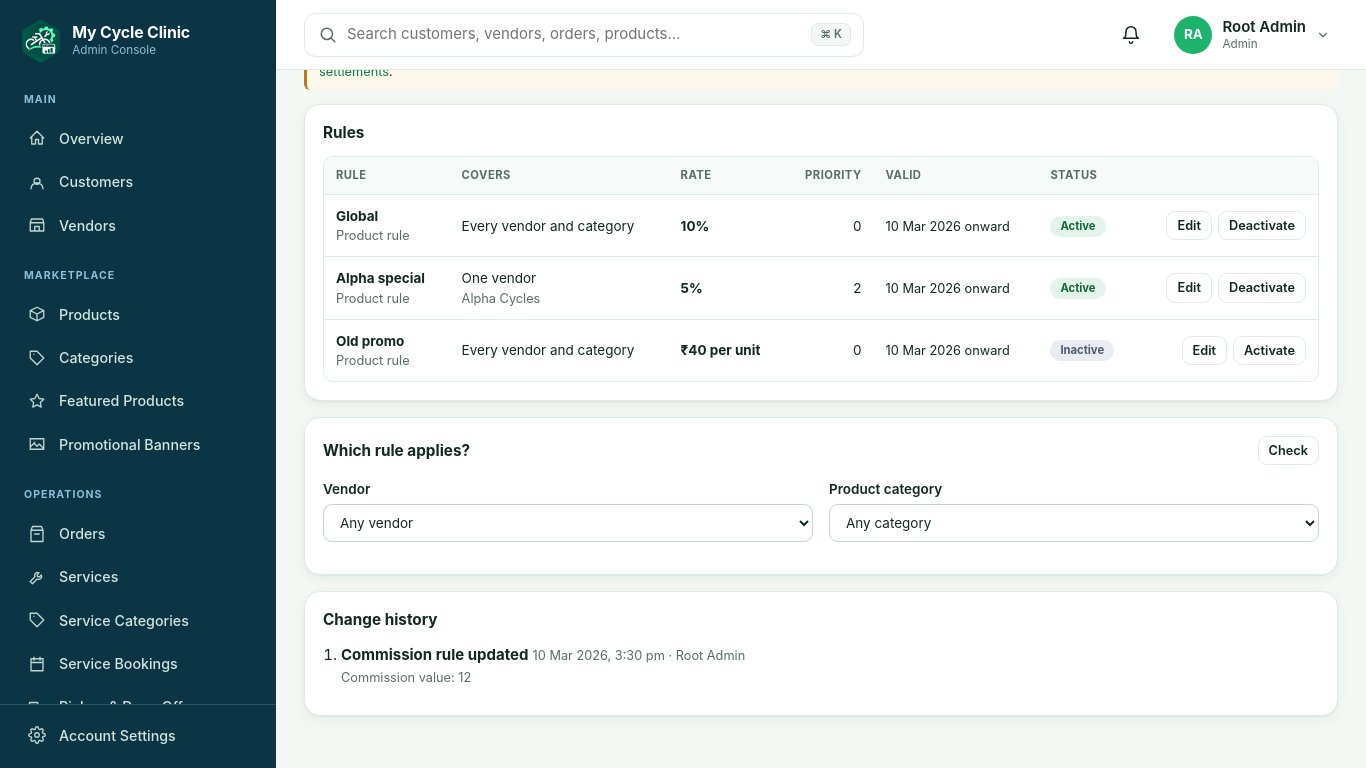
Test: commission management › tells the admin which rule would apply to a vendor and category (the same function checkout uses)
The image size is (1366, 768).
(page scrolled)
Expected: the text "Alpha special" is shown, [336,270,425,286]
Click the button "Check": [1288, 451] box [1258,436,1319,465]
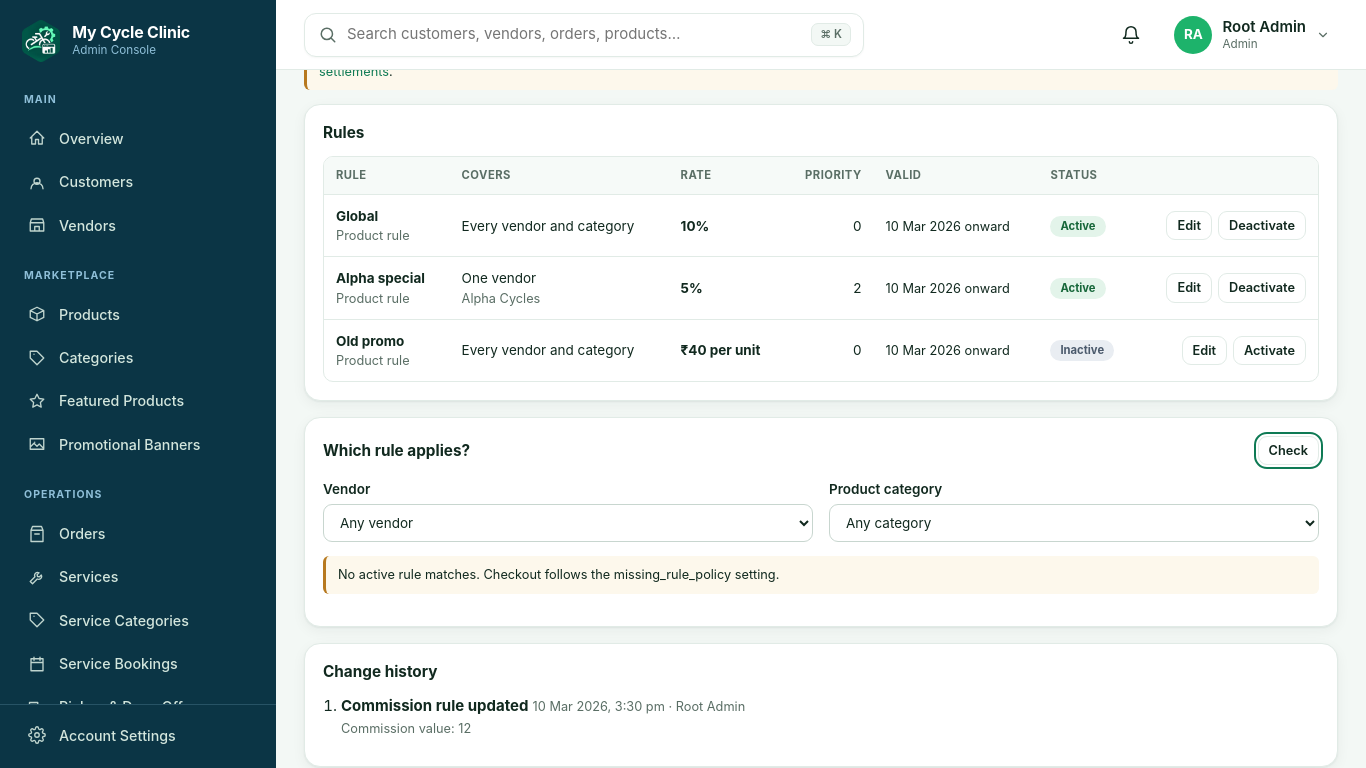
Now the text "No active rule matches. Checkout follows the missing_rule_policy setting." is shown, box [323,556,1319,594]
Select "Alpha Cycles" in the dropdown labelled "Vendor": [568, 524] box [323,504,813,542]
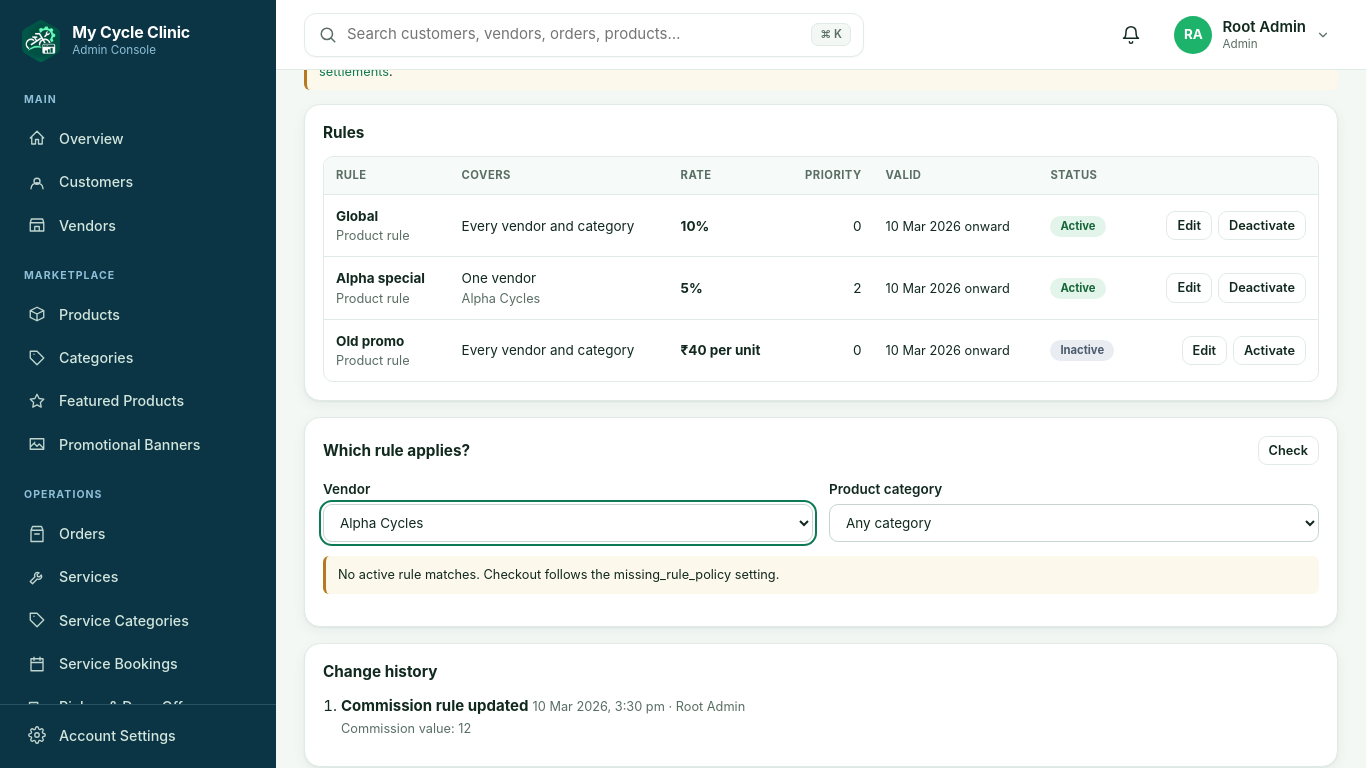
Click the button "Check": [1288, 451] box [1258,436,1319,465]
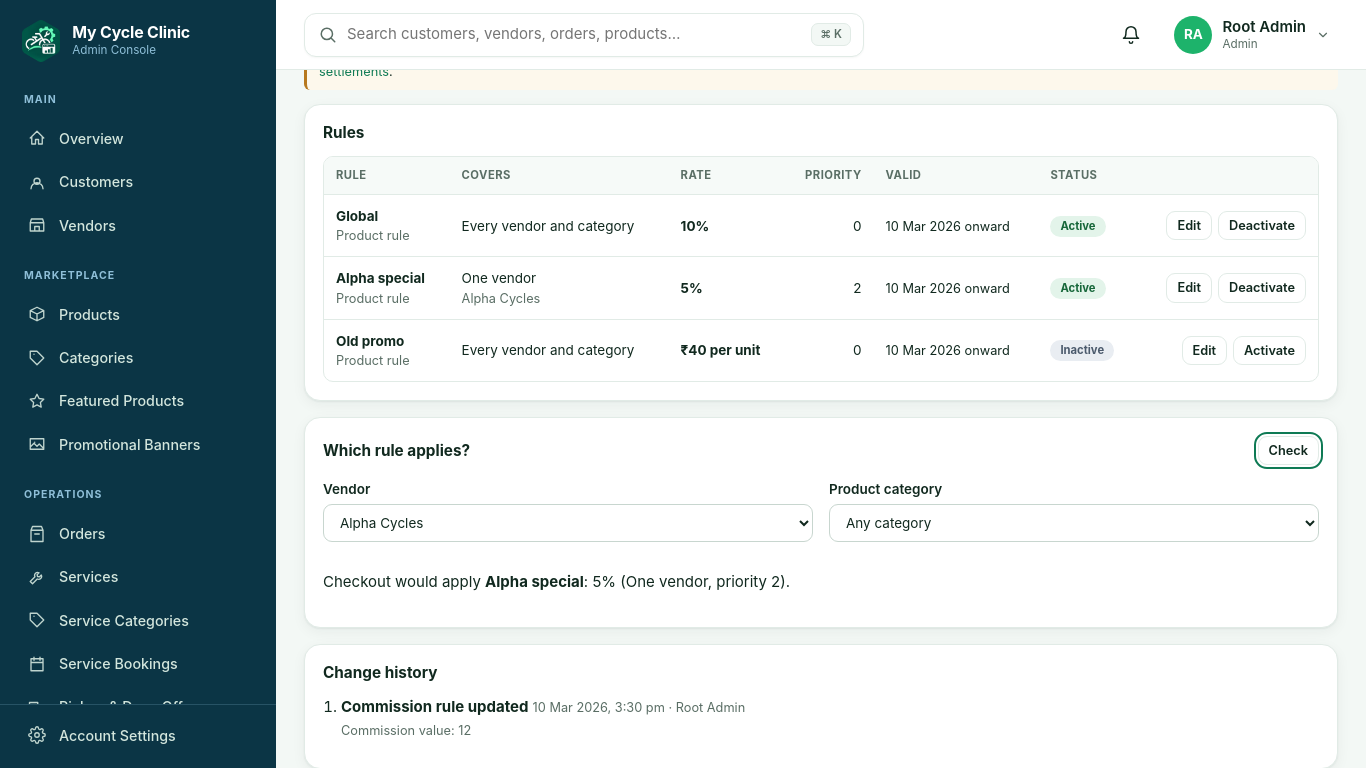
Now the text "Checkout would apply Alpha special: 5% (One vendor, priority 2)." is shown, box [323,572,790,592]
